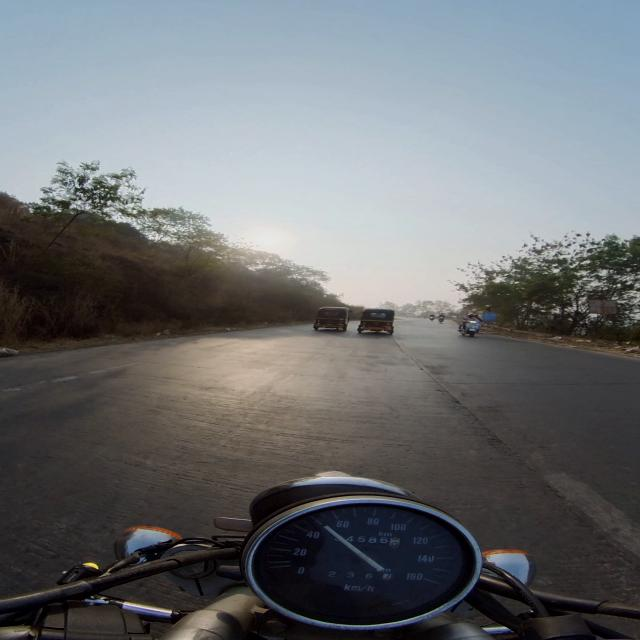motorcycle: (0, 472, 639, 639), (459, 321, 481, 337)
